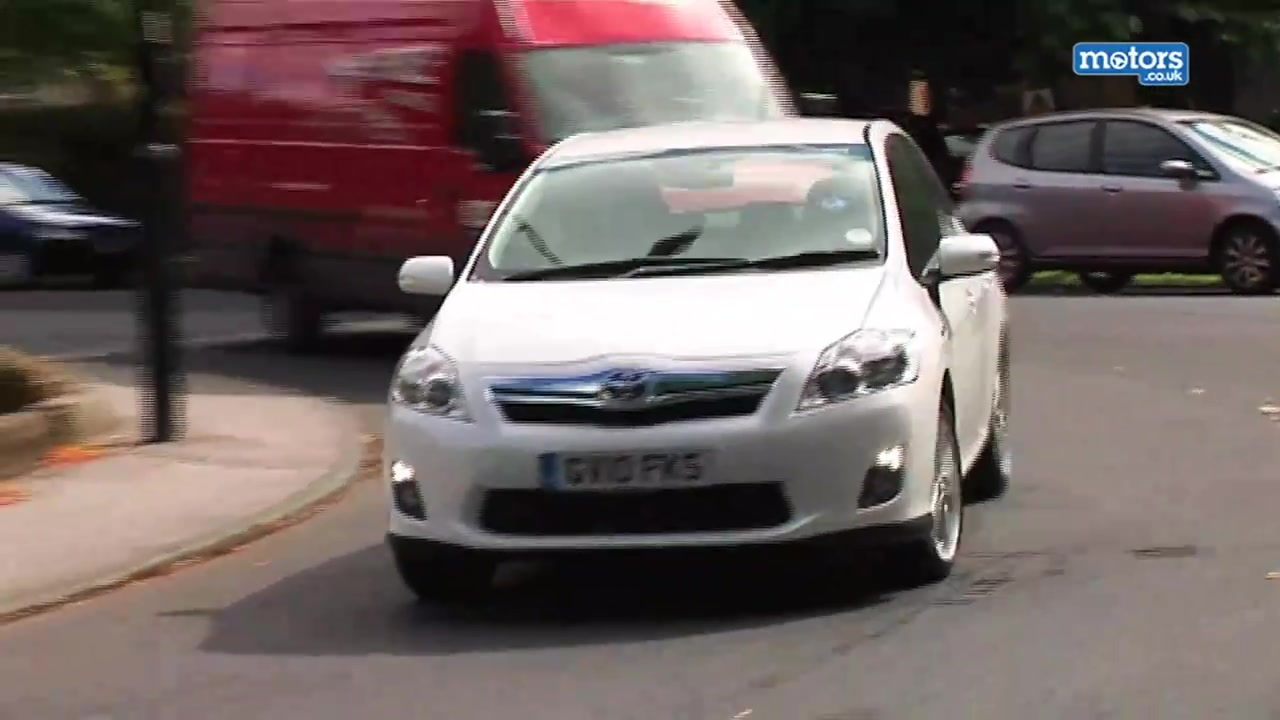car: (381, 116, 1017, 603), (169, 1, 879, 344), (950, 102, 1280, 295), (1, 165, 146, 287)
